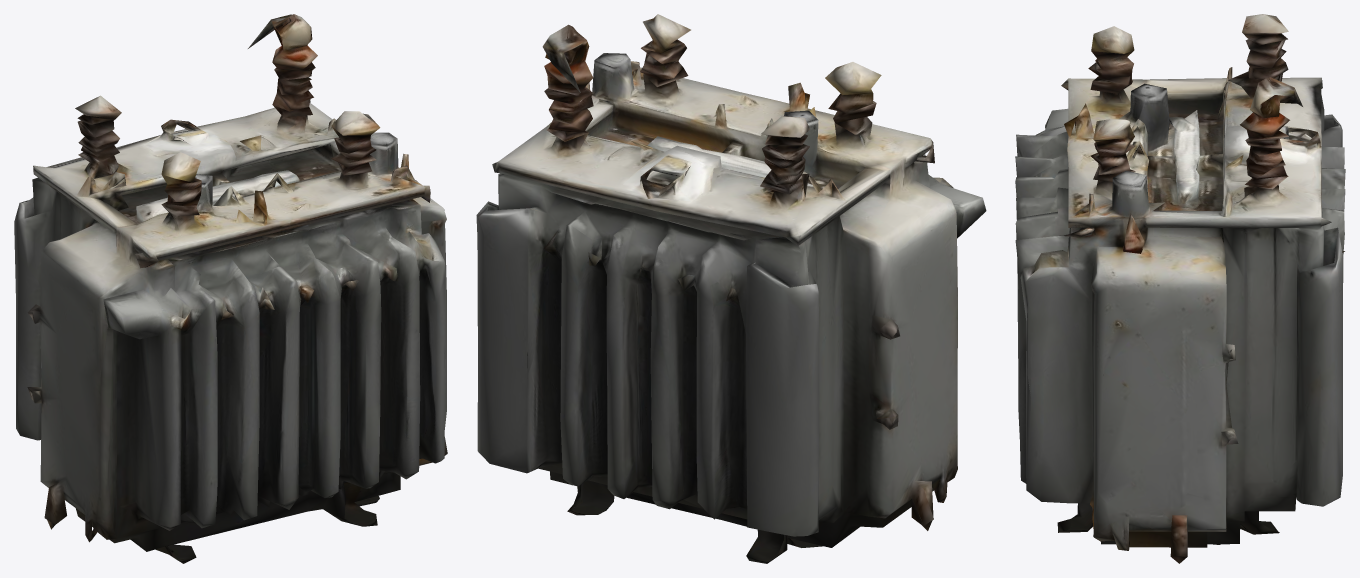
The model's file is qr_transformer.glb.
3 views of the same model, side by side, from view 1: azimuth 30°, elevation 25°; view 2: azimuth 150°, elevation 25°; view 3: azimuth 270°, elevation 25° (orthographic). The views are drawn at different scales.
Visible parts, largest first — view 1: tripo_node_d9b9502a-f199-4d37-a6e7-3df52f09c33c; view 2: tripo_node_d9b9502a-f199-4d37-a6e7-3df52f09c33c; view 3: tripo_node_d9b9502a-f199-4d37-a6e7-3df52f09c33c.
Boxes of the visible parts, <box> form: tripo_node_d9b9502a-f199-4d37-a6e7-3df52f09c33c: <box>14,14,447,563</box>; tripo_node_d9b9502a-f199-4d37-a6e7-3df52f09c33c: <box>476,14,986,563</box>; tripo_node_d9b9502a-f199-4d37-a6e7-3df52f09c33c: <box>1015,14,1345,563</box>.
Bounding box in the file's own units: 0.9146 × 1 × 0.647.
1 material, 1 textured.
